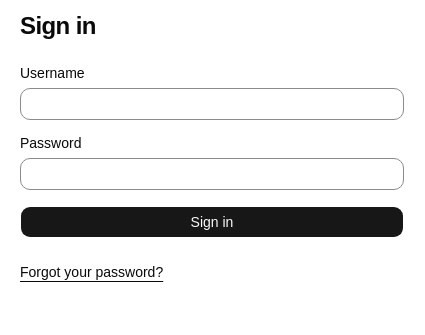
the sign-in page › shows the host's message word for word when the request was malformed
The image size is (425, 335).
Step 1. Type "ada.lovelace" into the field labelled "Username" → coordinates (212, 104), box [20,88,404,120]
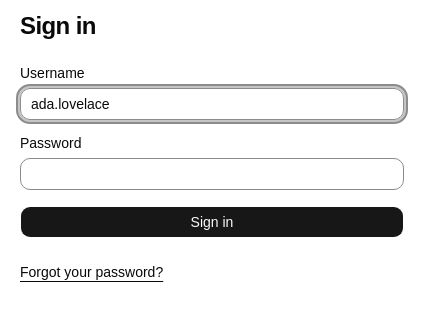
Step 2. Type "correct horse battery staple" into the password field labelled "Password" → coordinates (212, 174), box [20,158,404,190]
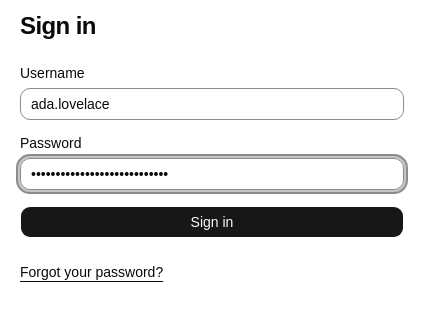
Step 3. Click the button "Sign in" → coordinates (212, 222), box [20,206,404,238]
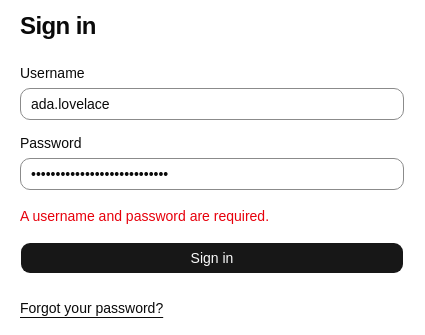
Expected: the message reads "A username and password are required.", [20,208,269,224]
